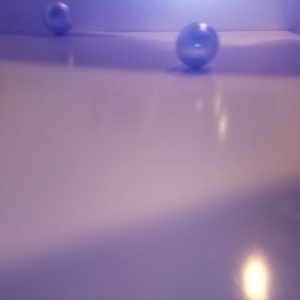alive_ball: (174, 22, 218, 66), (43, 2, 73, 34)
